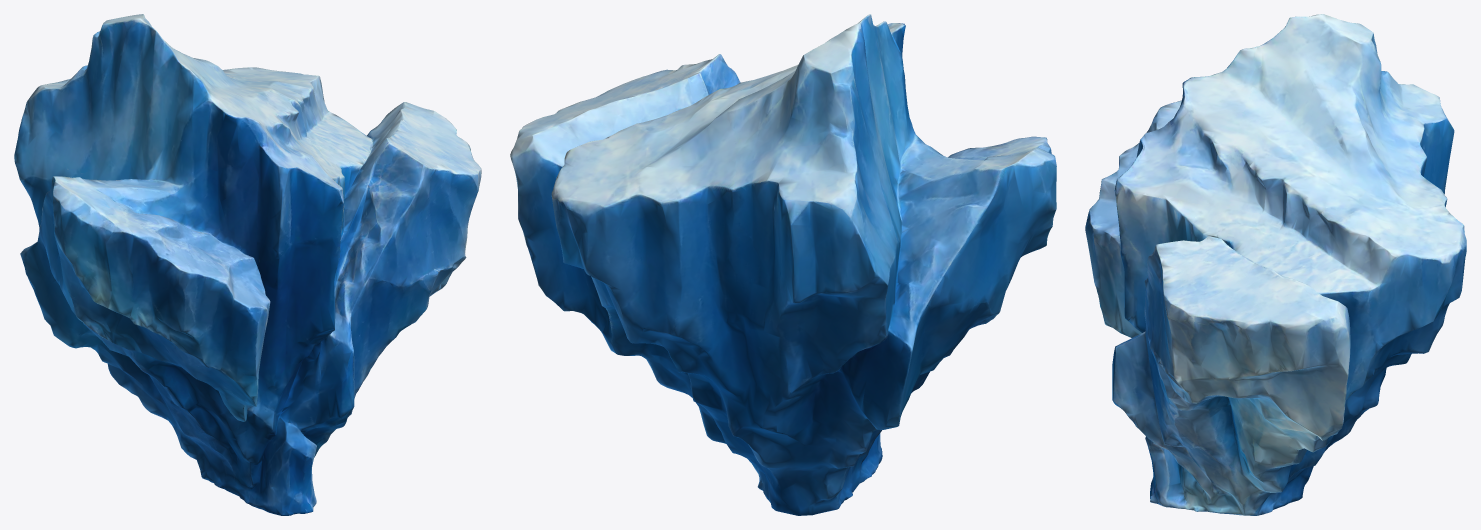
File: hielo_azul.glb
The picture shows the model from 3 angles, left to right: view 1: azimuth 30°, elevation 25°; view 2: azimuth 150°, elevation 25°; view 3: azimuth 270°, elevation 25°; orthographic projection. The views are drawn at different scales.
Parts seen in each view (by area): view 1: tripo_node_ee64967f-d912-4dbf-8cf4-7d12238e9ec7; view 2: tripo_node_ee64967f-d912-4dbf-8cf4-7d12238e9ec7; view 3: tripo_node_ee64967f-d912-4dbf-8cf4-7d12238e9ec7.
Boxes of the visible parts, bbox=[...] form: tripo_node_ee64967f-d912-4dbf-8cf4-7d12238e9ec7: bbox=[14, 14, 481, 515]; tripo_node_ee64967f-d912-4dbf-8cf4-7d12238e9ec7: bbox=[510, 14, 1056, 515]; tripo_node_ee64967f-d912-4dbf-8cf4-7d12238e9ec7: bbox=[1085, 14, 1466, 515].
Bounding box in the file's own units: 0.9888 × 0.9994 × 0.7757.
Materials: 1 (1 with a texture image).
